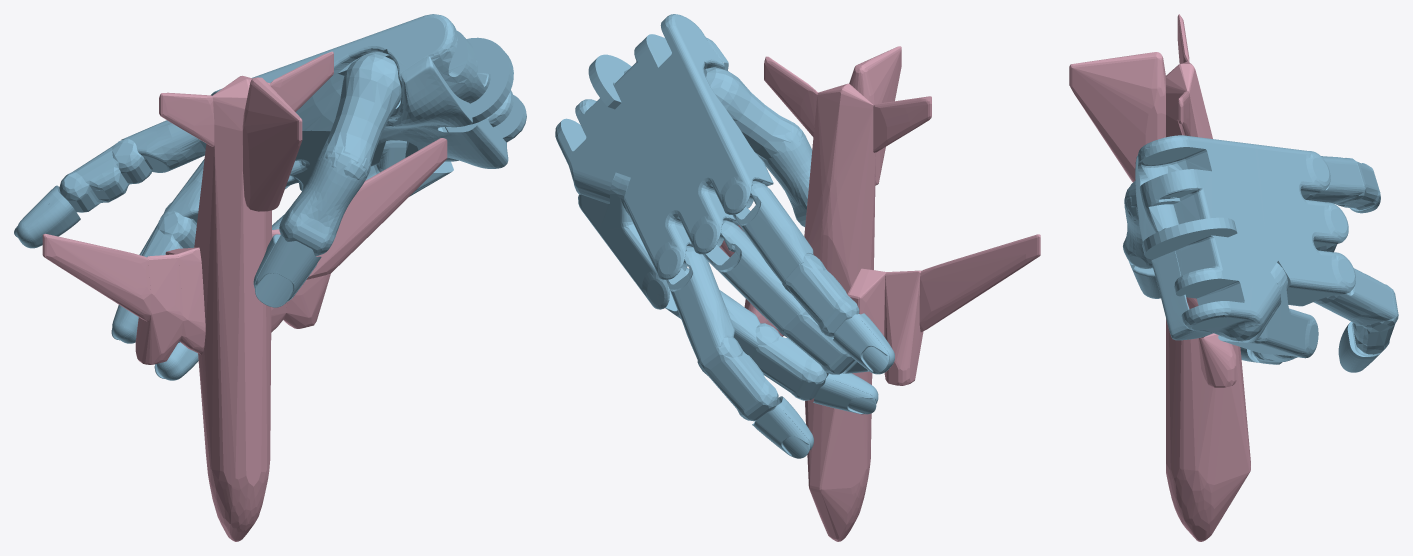
3 renders of one model, left to right at view 1: azimuth 30°, elevation 25°; view 2: azimuth 150°, elevation 25°; view 3: azimuth 270°, elevation 25°, orthographic. The views are drawn at different scales.
Visible parts, largest first — view 1: world, hand_isaac_q; view 2: hand_isaac_q, world; view 3: hand_isaac_q, world.
Boxes of the visible parts, x1=… form: world: x1=42, y1=51, x2=447, y2=541; hand_isaac_q: x1=14, y1=14, x2=526, y2=380; hand_isaac_q: x1=555, y1=14, x2=894, y2=458; world: x1=719, y1=46, x2=1040, y2=541; hand_isaac_q: x1=1123, y1=135, x2=1398, y2=372; world: x1=1069, y1=14, x2=1250, y2=541.
Bounding box in the file's own units: 0.2359 × 0.2252 × 0.1347.
